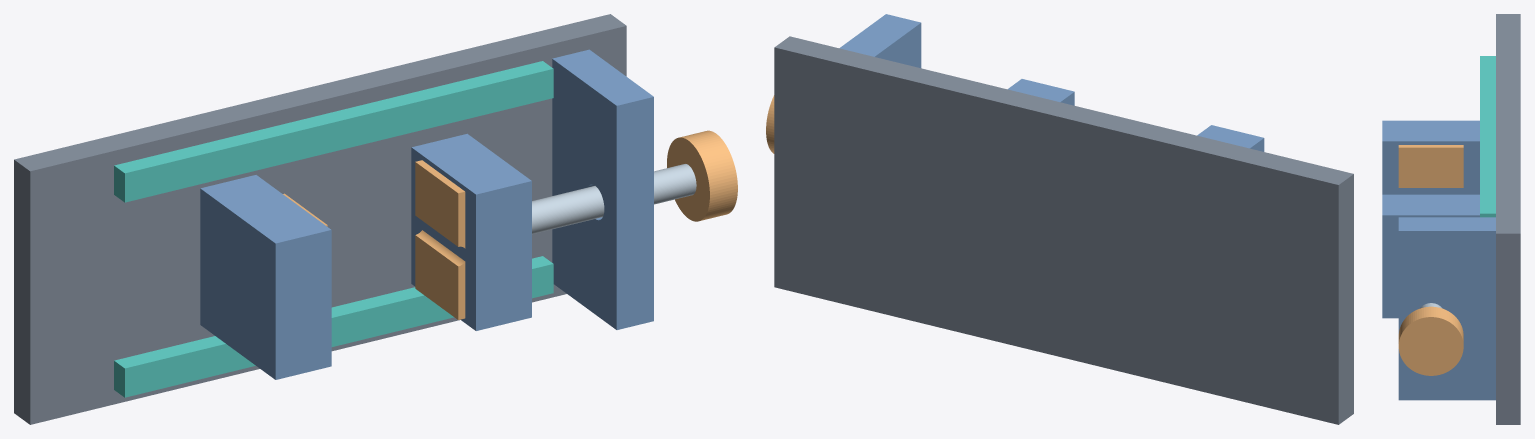
File: assembly.glb
The picture shows the model from 3 angles, left to right: view 1: azimuth 30°, elevation 25°; view 2: azimuth 150°, elevation 25°; view 3: azimuth 270°, elevation 25°; orthographic projection. The views are drawn at different scales.
Visible parts, largest first — view 1: base, actuator_support, fixed_jaw, rail_right, moving_jaw, rail_left, moving_pad, knob, rod; view 2: base, actuator_support, fixed_jaw, moving_jaw; view 3: actuator_support, base, fixed_jaw, moving_jaw, knob, fixed_pad, rail_right.
Part boxes in pixels (x1,y1,x2,y2): base: (14, 14, 626, 424); actuator_support: (552, 49, 653, 329); fixed_jaw: (200, 175, 331, 379); rail_right: (114, 61, 553, 202); moving_jaw: (411, 133, 531, 330); rail_left: (114, 256, 553, 397); moving_pad: (415, 160, 465, 319); knob: (667, 130, 737, 221); rod: (532, 164, 696, 234); base: (774, 36, 1353, 424); actuator_support: (839, 14, 921, 68); fixed_jaw: (1197, 125, 1264, 151); moving_jaw: (1008, 79, 1074, 105); actuator_support: (1398, 217, 1495, 400); base: (1496, 14, 1520, 424); fixed_jaw: (1382, 120, 1479, 194); moving_jaw: (1382, 194, 1479, 318); knob: (1398, 306, 1463, 375); fixed_pad: (1398, 145, 1463, 187); rail_right: (1480, 56, 1495, 217).
Bounding box in the file's own units: 0.1295 × 0.0488 × 0.0319.
